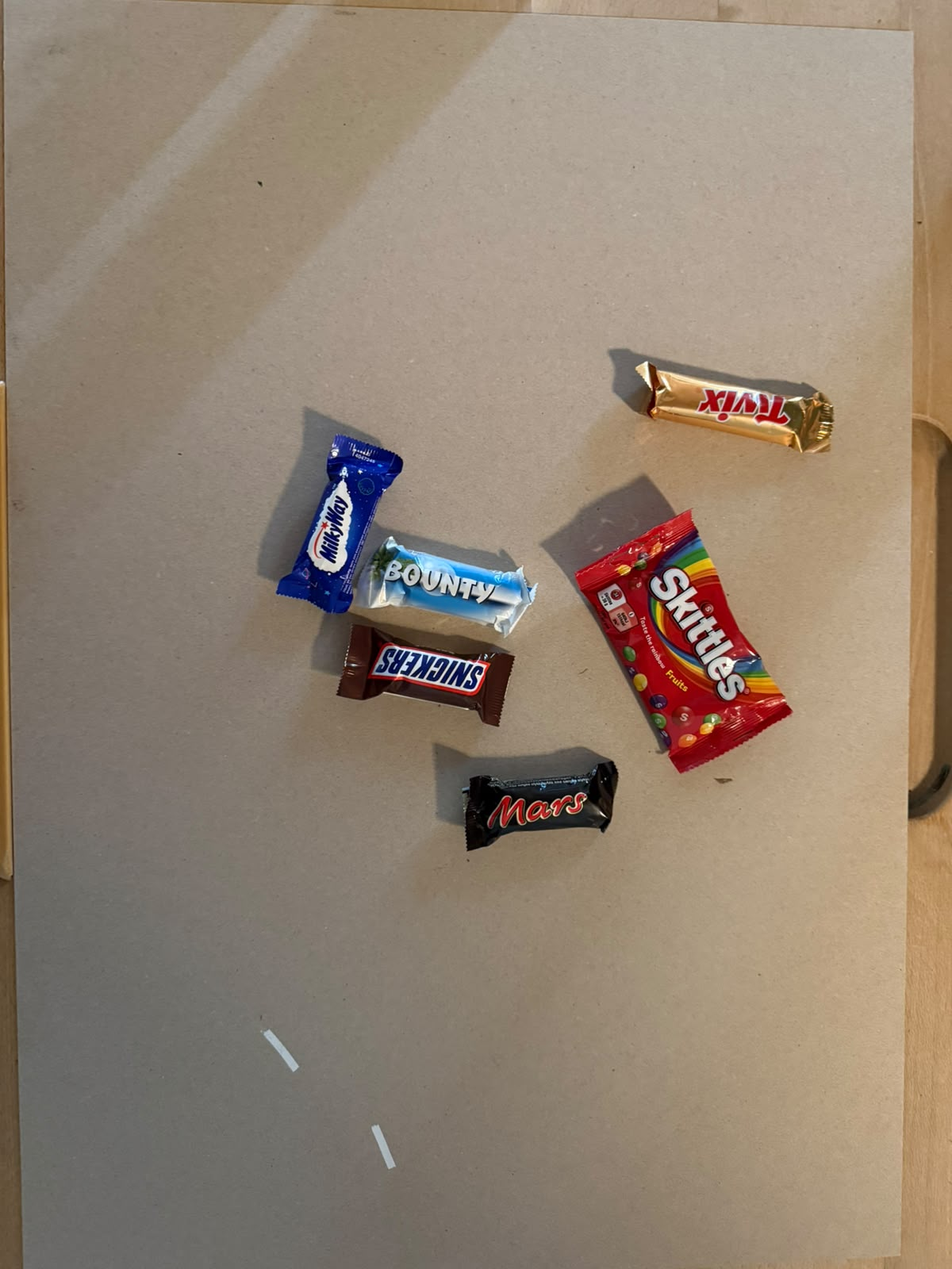Bounty: (375, 526, 537, 605)
Mars: (452, 783, 628, 853)
MilkyWay: (343, 421, 419, 601)
Skittles: (558, 571, 711, 815)
Snickers: (360, 617, 533, 689)
Twix: (648, 347, 846, 426)
